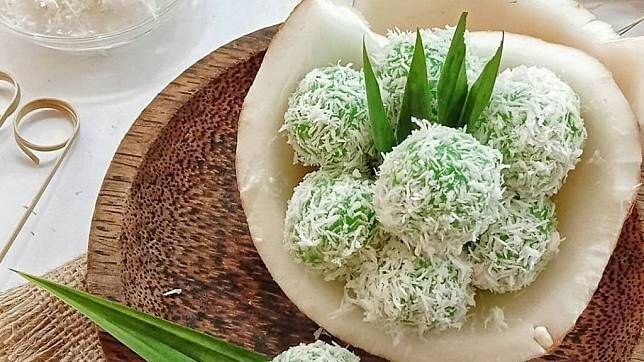klepon: (373, 125, 504, 256)
